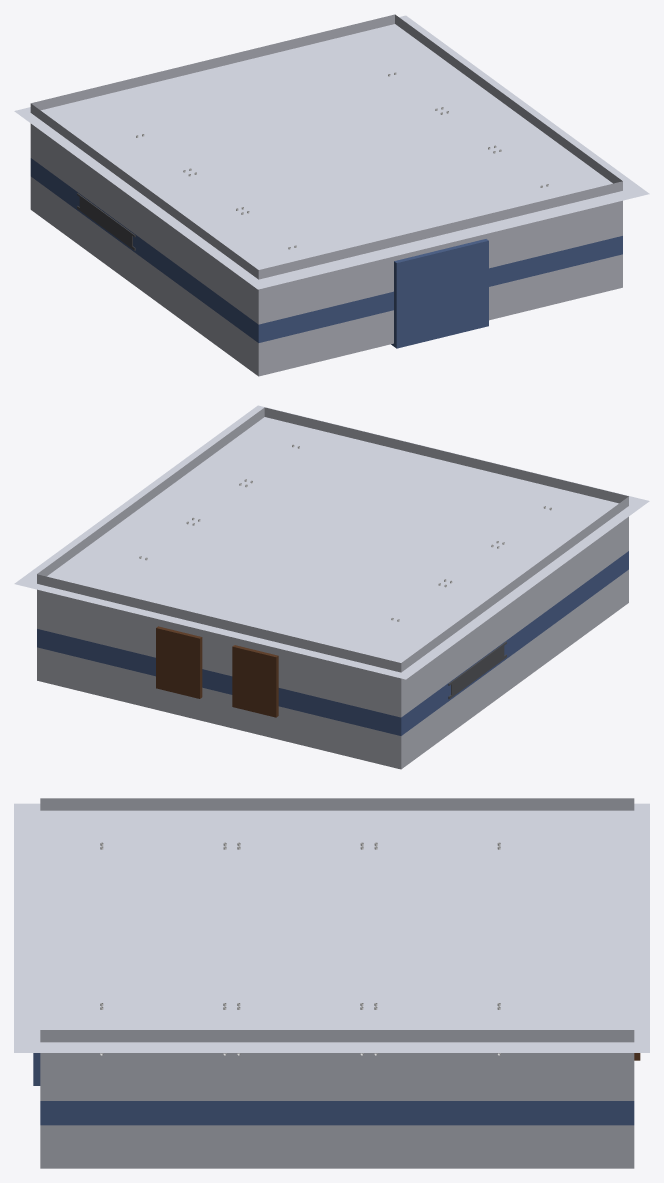
File: ERROOM.fbx
3 renders of one model, top to bottom at view 1: azimuth 30°, elevation 25°; view 2: azimuth 150°, elevation 25°; view 3: azimuth 270°, elevation 25°, orthographic. The views are drawn at different scales.
Visible parts, largest first — view 1: Cube.001, Cube, Cube.018, Cube.010; view 2: Cube.001, Cube, Cube.021, Cube.020, Cube.010; view 3: Cube.001, Cube.
Boxes of the visible parts, x1,y1,x2,y2 form: Cube.001: (14, 15, 649, 289); Cube: (30, 14, 622, 376); Cube.018: (391, 239, 488, 348); Cube.010: (77, 193, 135, 250); Cube.001: (14, 405, 649, 679); Cube: (37, 407, 628, 769); Cube.021: (232, 645, 278, 717); Cube.020: (156, 626, 202, 698); Cube.010: (448, 641, 506, 699); Cube.001: (14, 803, 649, 1052); Cube: (40, 798, 634, 1168).
Size of the model in its own units: 1291 by 1392 by 345.
